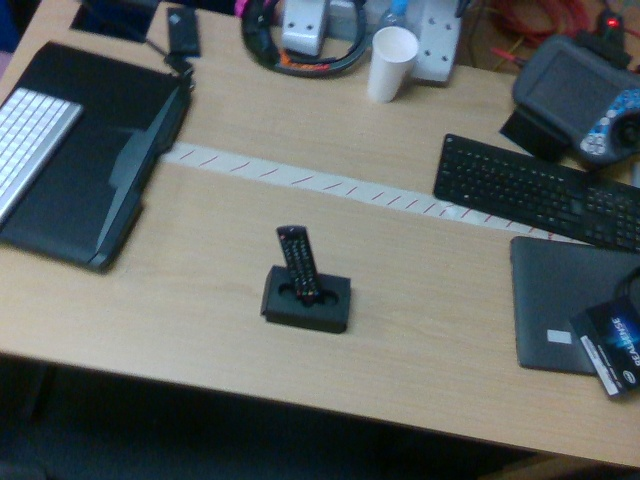remote: (276, 225, 323, 301)
